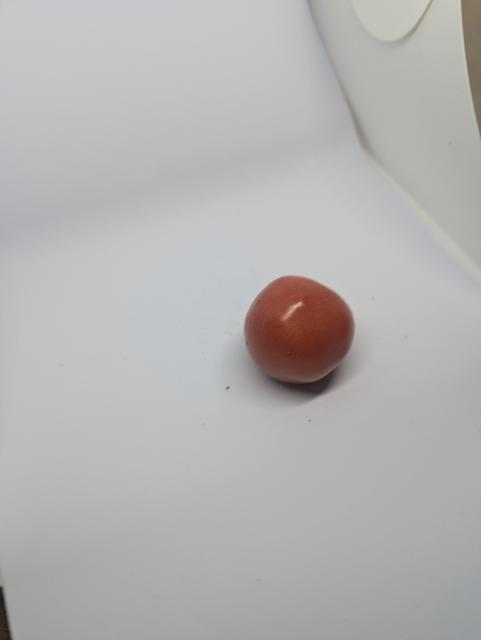red: (239, 271, 367, 398)
